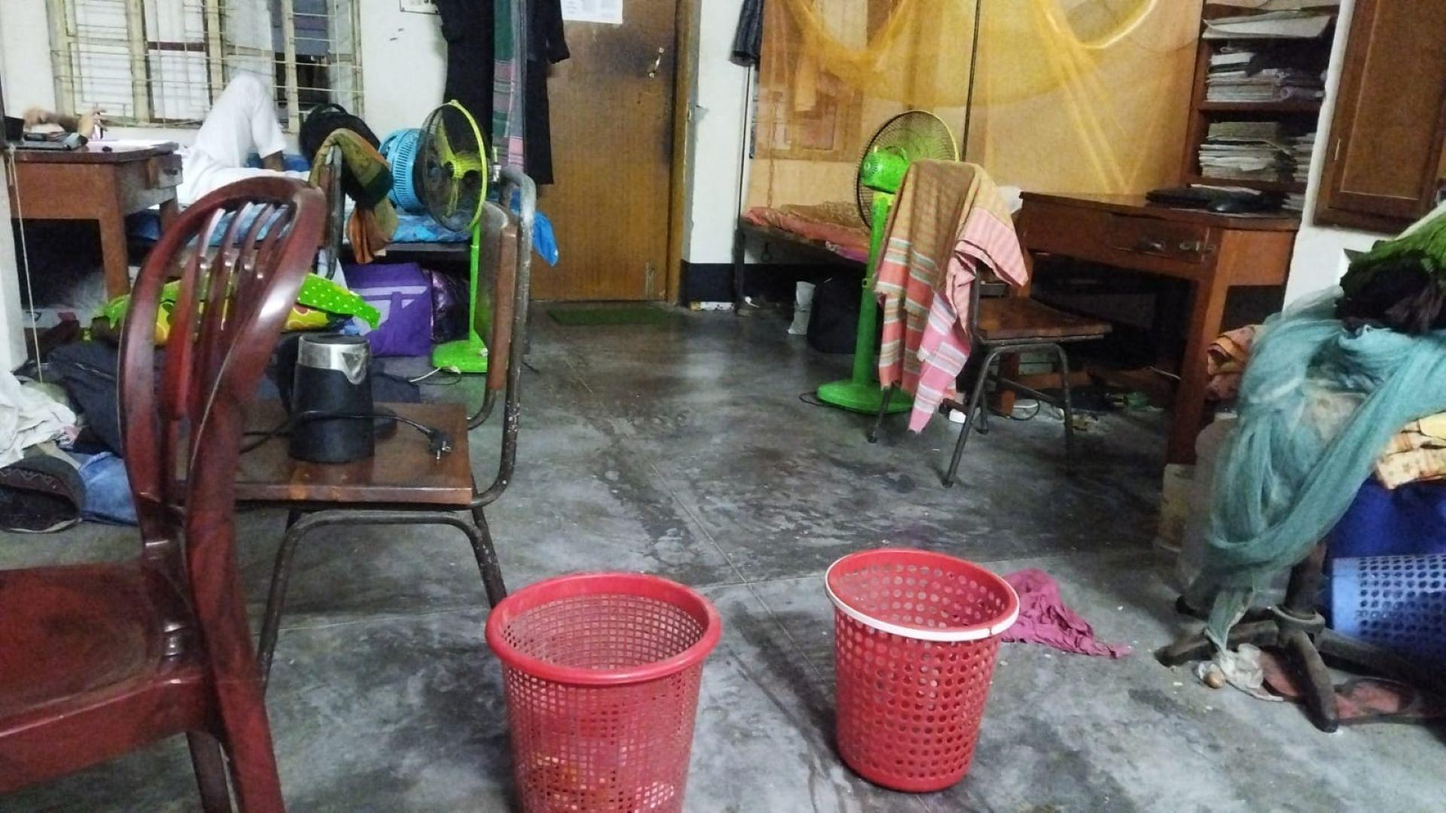Basket: (484, 563, 708, 812), (813, 543, 1018, 788), (1326, 534, 1446, 665)
Book: (1207, 37, 1315, 102), (1195, 110, 1281, 184)
Chair: (7, 181, 320, 813), (227, 141, 513, 671), (894, 152, 1109, 480)
Door: (520, 0, 676, 299)
Fan: (823, 110, 961, 411), (422, 92, 482, 408)
Floor Mat: (538, 296, 677, 327)
Kettle: (287, 314, 384, 465)
Mouse: (1209, 200, 1249, 216)
Table: (993, 195, 1306, 448), (11, 112, 182, 302)
